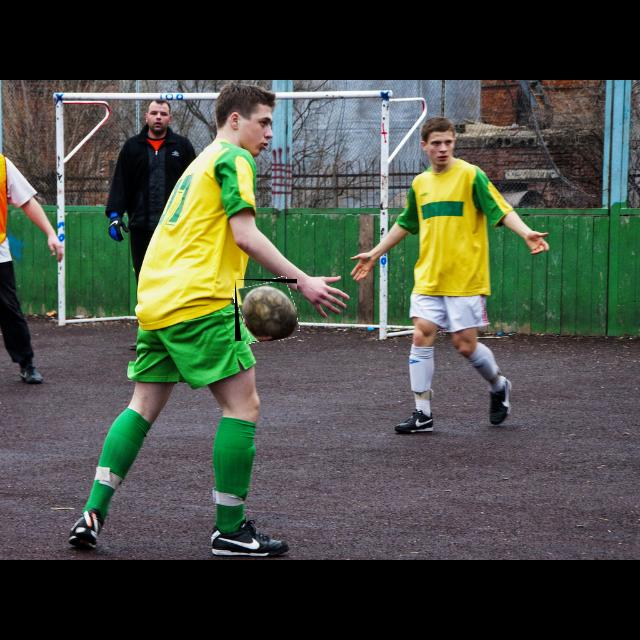Football: (235, 279, 297, 341)
